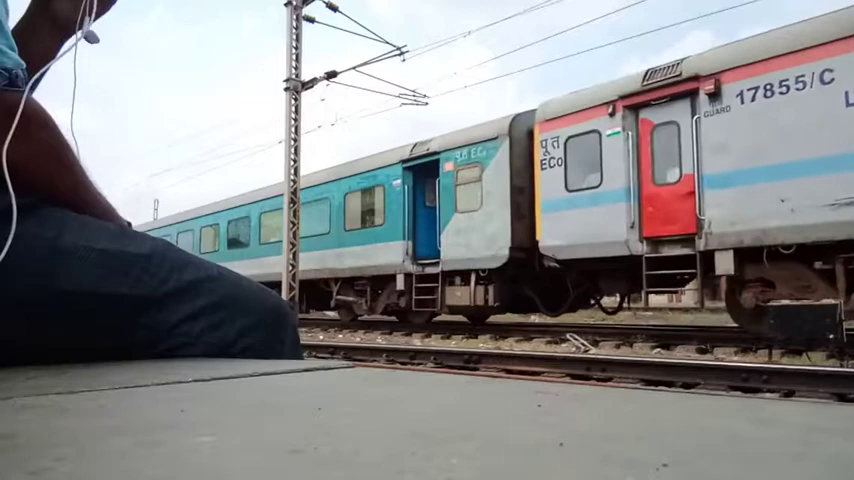Boogie: (725, 70, 813, 113)
